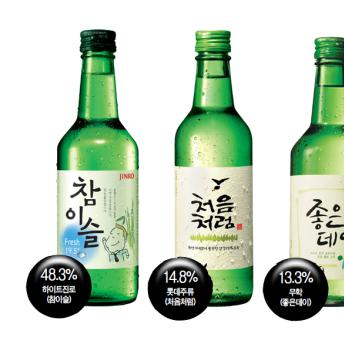soju: (171, 28, 259, 309), (55, 28, 139, 310), (288, 36, 344, 310)
